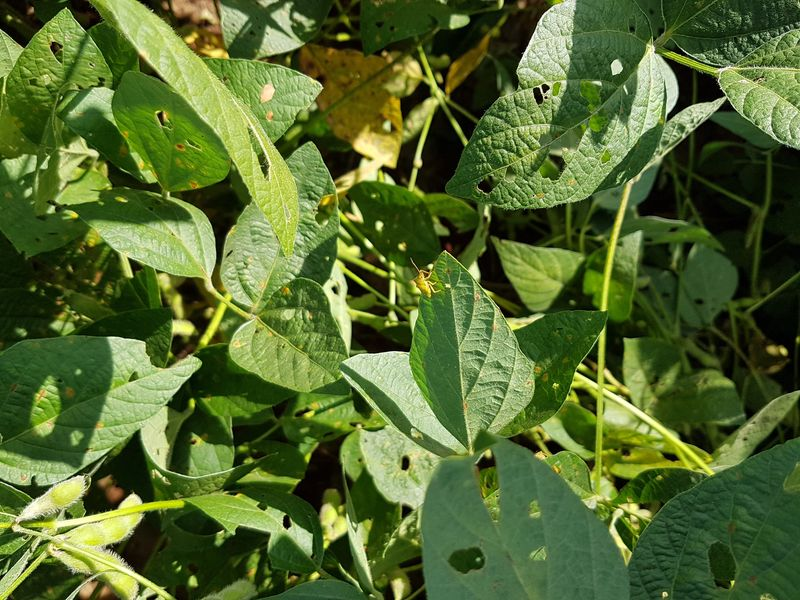Euschistus_heros_ninfa: (397, 256, 449, 304)
